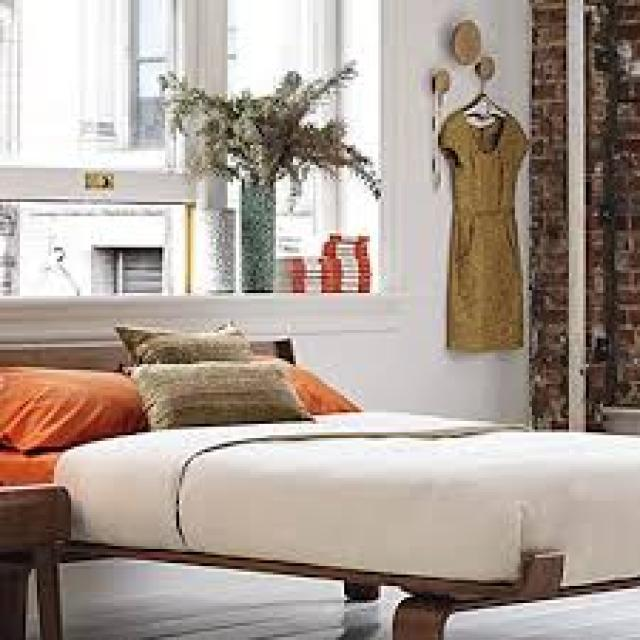bed: (0, 330, 637, 637)
